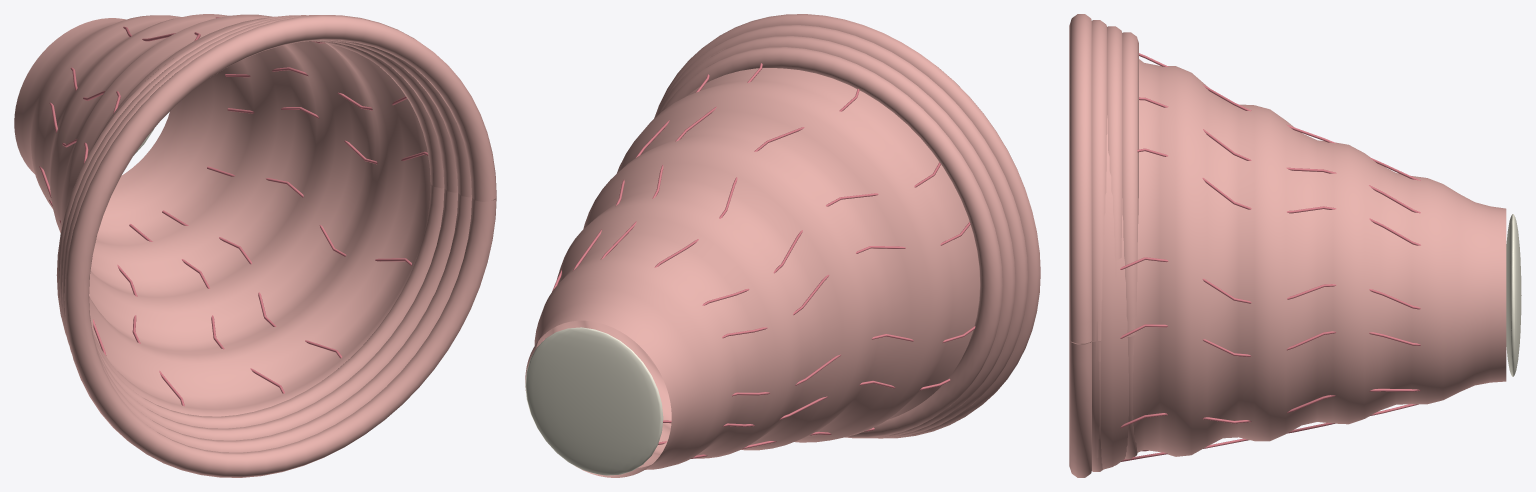
The model's file is ear-healthy.glb.
3 renders of one model, left to right at view 1: azimuth 30°, elevation 25°; view 2: azimuth 150°, elevation 25°; view 3: azimuth 270°, elevation 25°, orthographic. The views are drawn at different scales.
Parts seen in each view (by area): view 1: ear canal wall, canal fold, canal fold.001, canal fold.002, canal fold.003, capillary.005, capillary.010; view 2: ear canal wall, tympanic membrane, canal fold.003, canal fold, canal fold.001, canal fold.002, capillary.001, capillary.009, capillary.006, capillary.004; view 3: ear canal wall, canal fold, canal fold.003, canal fold.001, canal fold.002, tympanic membrane, capillary.008, capillary, capillary.005, capillary.003, capillary.011, capillary.006 (+1 smaller).
Boxes of the visible parts, x1,y1,x2,y2 form: ear canal wall: (14,14,430,416); canal fold: (64,15,496,477); canal fold.001: (62,15,471,452); canal fold.002: (59,15,457,440); canal fold.003: (56,15,444,428); capillary.005: (207,166,411,265); capillary.010: (162,210,342,358); ear canal wall: (525,49,979,477); tympanic membrane: (525,327,663,475); canal fold.003: (661,47,1002,438); canal fold: (654,14,1040,438); canal fold.001: (655,25,1027,438); canal fold.002: (657,36,1015,438); capillary.001: (702,162,940,305); capillary.009: (722,222,970,338); capillary.006: (654,89,859,267); capillary.004: (732,326,975,396); ear canal wall: (1081,59,1506,469); canal fold: (1069,14,1091,477); canal fold.003: (1122,32,1138,459); canal fold.001: (1090,20,1106,471); canal fold.002: (1107,26,1122,465); tympanic membrane: (1506,214,1521,376); capillary.008: (1120,257,1420,309); capillary: (1120,324,1420,356); capillary.005: (1120,388,1420,428); capillary.003: (1137,148,1420,245); capillary.011: (1139,97,1420,213); capillary.006: (1139,53,1420,180).
Bounding box in the file's own units: 1.37 × 1.37 × 1.33.
